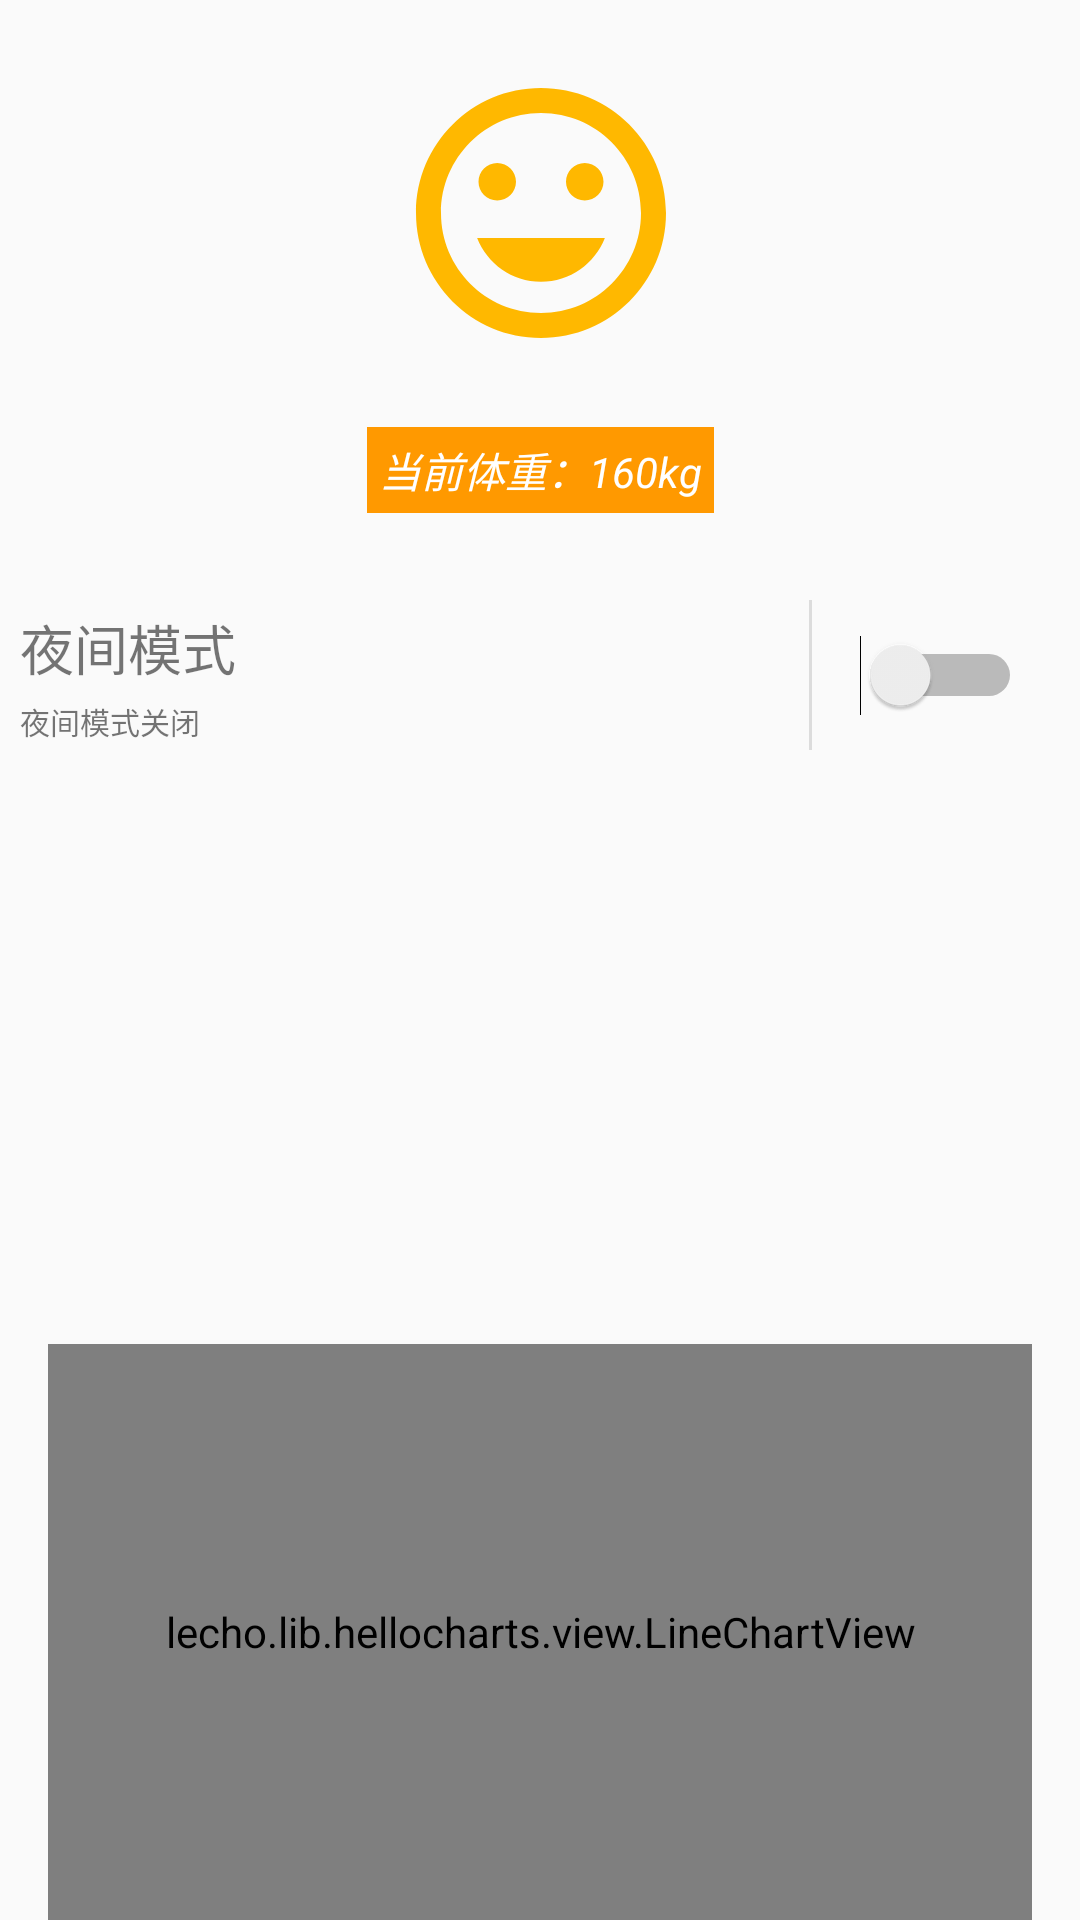

Named icons in this screenshot (1080w x 1920h) and their centers, [x,y]:
mood: [541,213]
